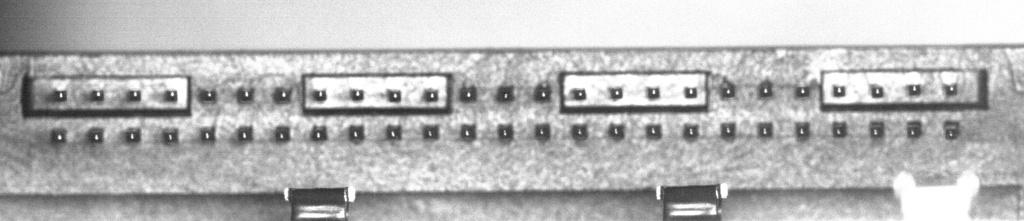pin_ok: (943, 120, 961, 140), (534, 82, 552, 101), (905, 120, 923, 138), (458, 84, 477, 101), (757, 80, 774, 98), (50, 127, 68, 144), (272, 86, 291, 102), (496, 85, 515, 101), (534, 123, 551, 140), (831, 121, 848, 138), (497, 123, 514, 140), (608, 122, 625, 139), (347, 124, 364, 141), (571, 123, 588, 140), (422, 124, 440, 140), (274, 125, 290, 142), (757, 121, 773, 138), (459, 124, 476, 140), (720, 81, 736, 98), (385, 124, 402, 140), (198, 87, 216, 102), (870, 120, 885, 138), (236, 86, 254, 101), (720, 122, 736, 138), (795, 123, 811, 139), (683, 123, 699, 139), (645, 123, 661, 139), (311, 125, 327, 141), (162, 128, 178, 144), (236, 126, 253, 141), (87, 128, 103, 143), (199, 127, 215, 142), (795, 84, 811, 98), (125, 128, 141, 142), (424, 88, 439, 102), (571, 87, 586, 101), (312, 88, 327, 102), (870, 84, 884, 98), (646, 85, 660, 99), (831, 84, 846, 97), (907, 83, 922, 96), (608, 86, 623, 99), (387, 89, 402, 102), (943, 82, 958, 95), (684, 85, 698, 98), (53, 88, 67, 101), (350, 88, 364, 101), (126, 89, 141, 101), (165, 89, 178, 102), (90, 89, 104, 101)
